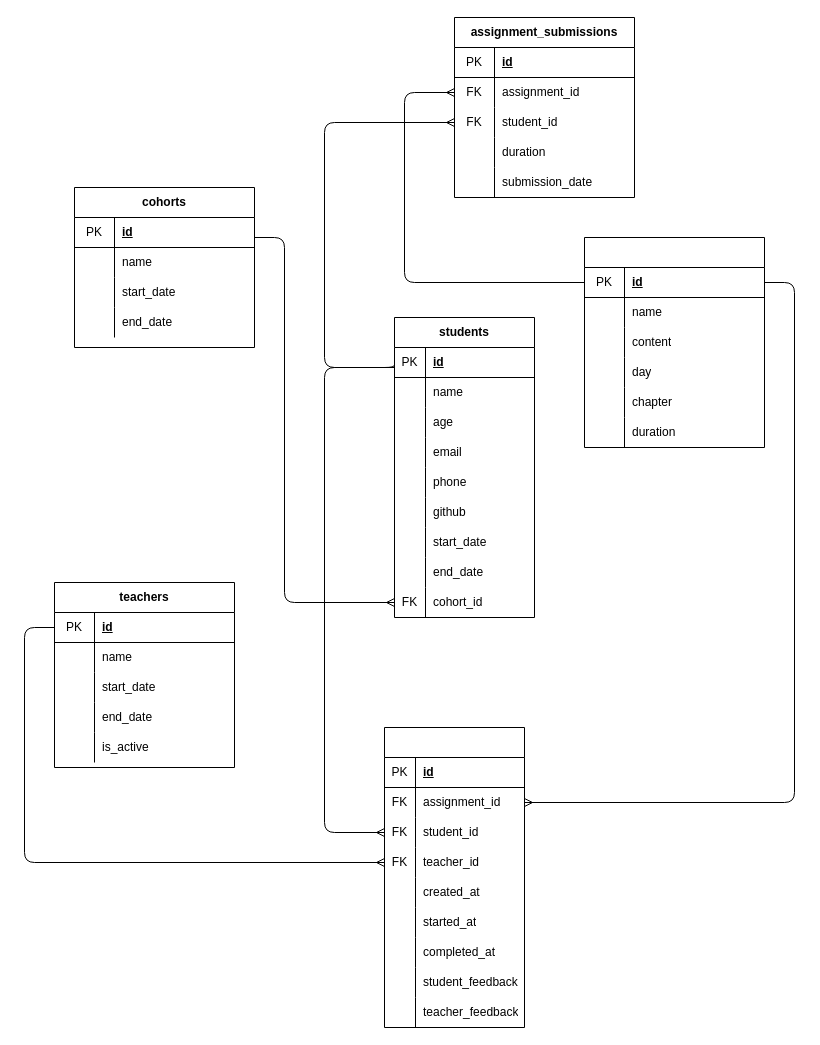
Image size: 820x1045. Some labels were removed from this diagram. The box of each missing label's shape, as (x1, y1, x2, y2) in pixels:
assignments: (584, 236, 764, 448)
assistance_requests: (384, 726, 524, 1028)
